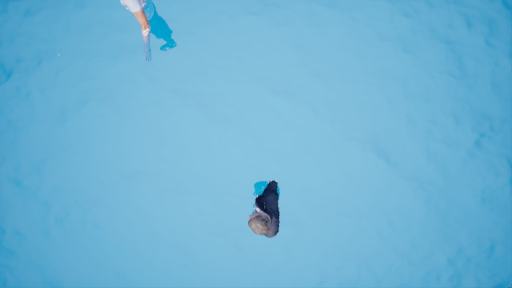person: (225, 171, 308, 240)
